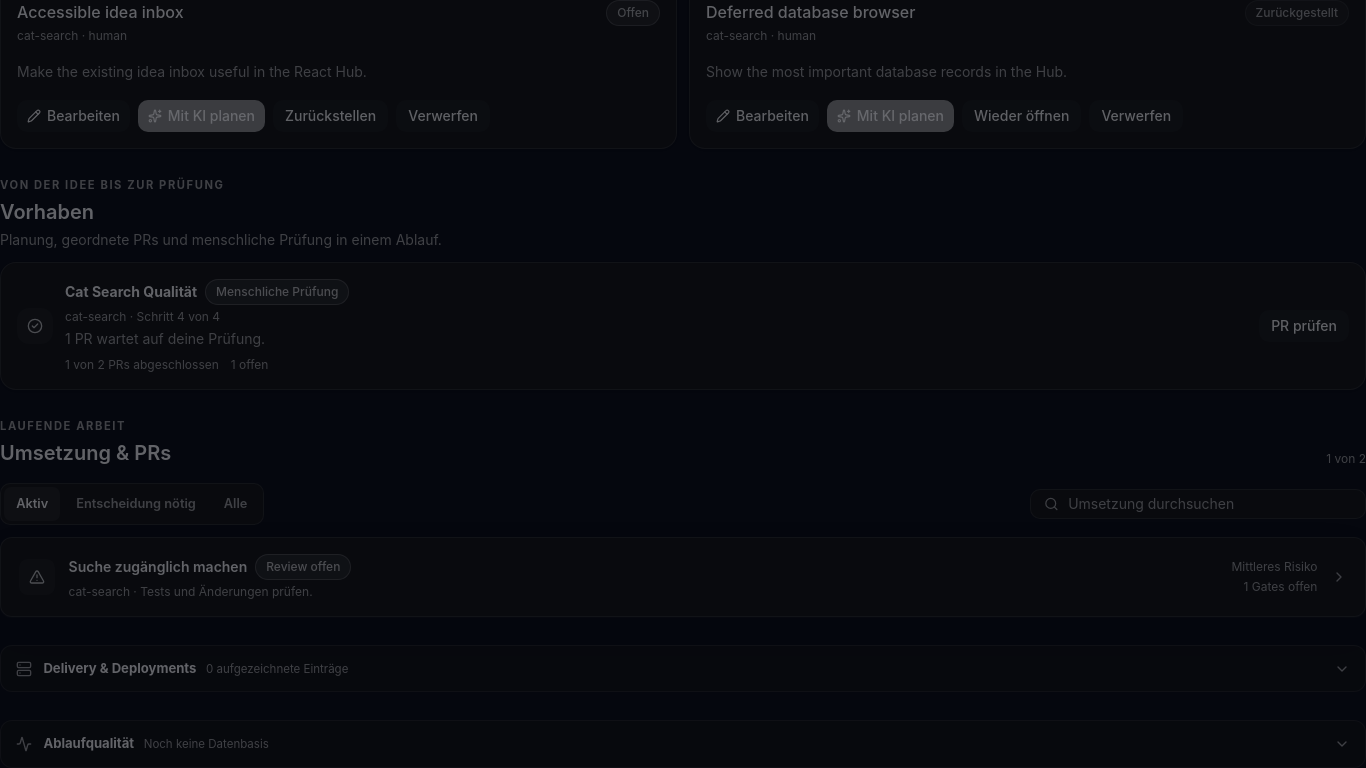
AutomationPage › opens a work item and exposes all detail areas
(page scrolled)
Click the button "Suche zugänglich machen" at (37, 577), box [1,538,1365,616]
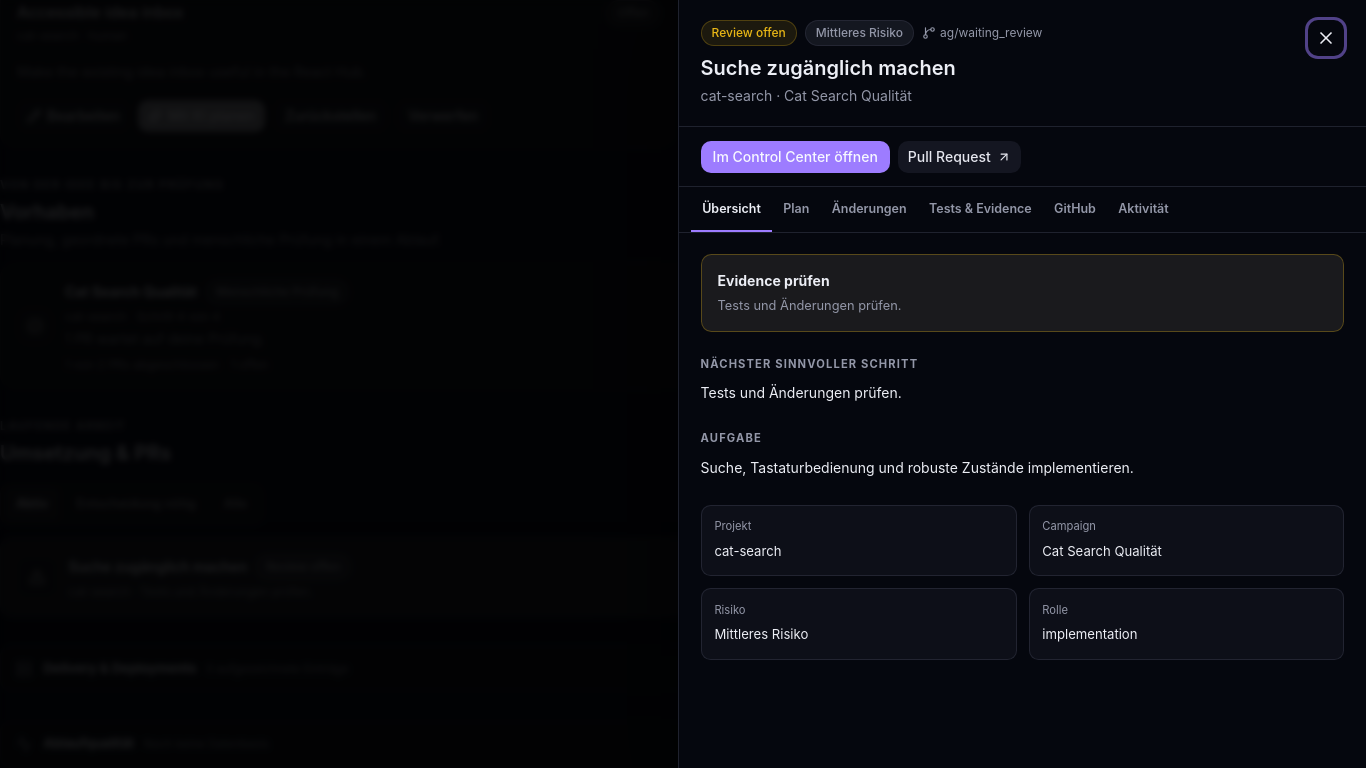
Expected: the dialog "Suche zugänglich machen" is shown, [678,0,1365,767]
Expected: the number of tabs is 6
Click the tab "Tests & Evidence" at (980, 210), box [918,187,1043,232]
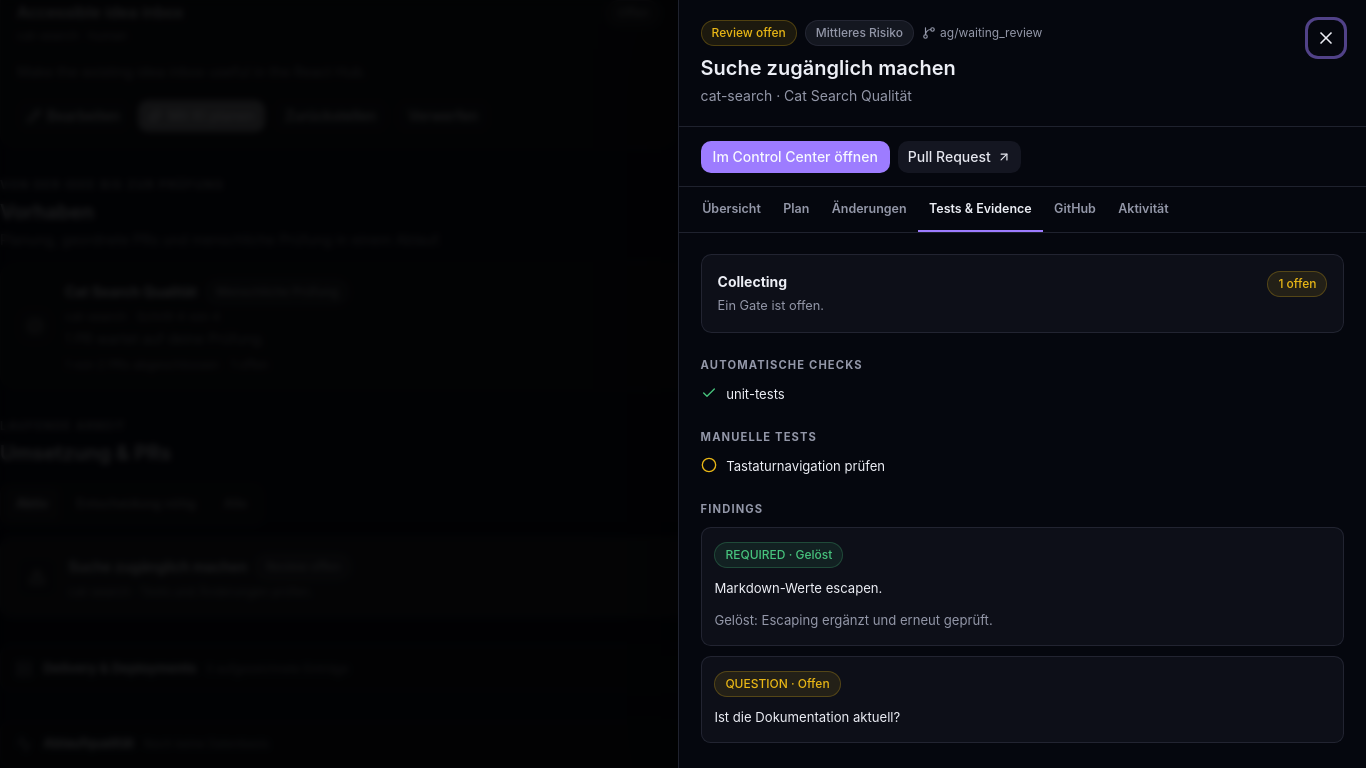
Expected: the text "Ein Gate ist offen." is shown, [718,296,824,316]
Expected: the text "REQUIRED · Gelöst" is shown, [714,542,843,568]
Expected: the text "Gelöst: Escaping ergänzt und erneut geprüft." is shown, [714,612,993,628]
